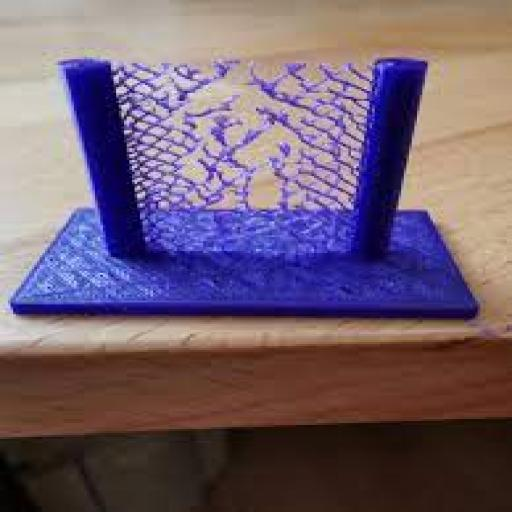stringing: (113, 58, 372, 258)
